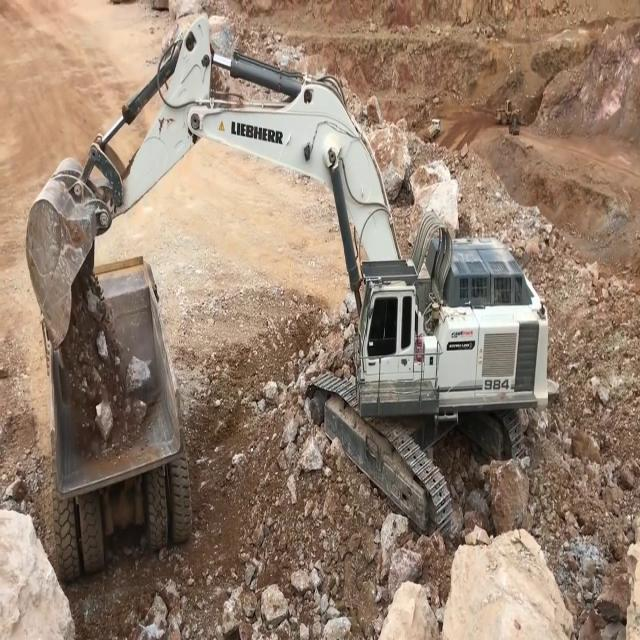excavator: (25, 9, 572, 540)
